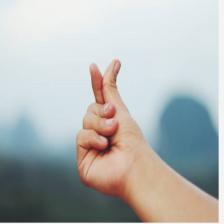five: (77, 60, 147, 192)
